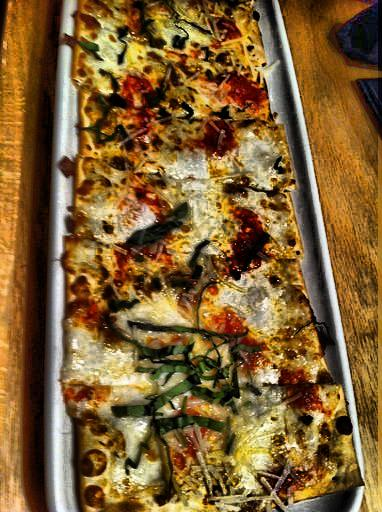pizza: (68, 3, 370, 500)
